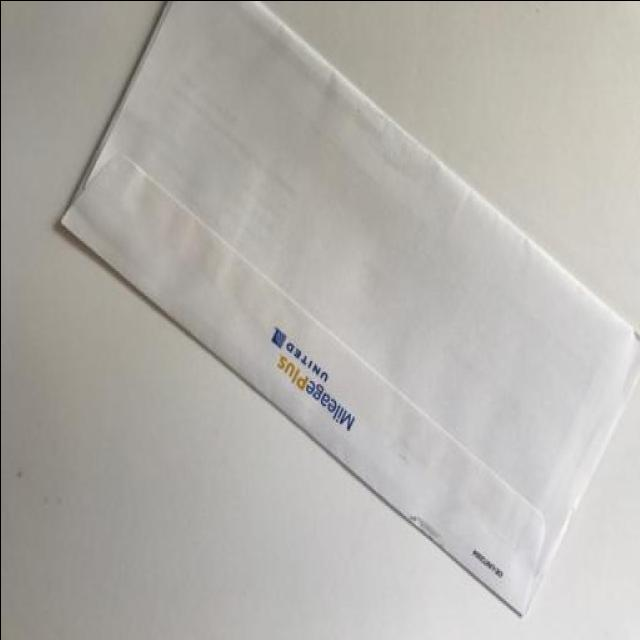non-organik: (63, 4, 640, 610)
